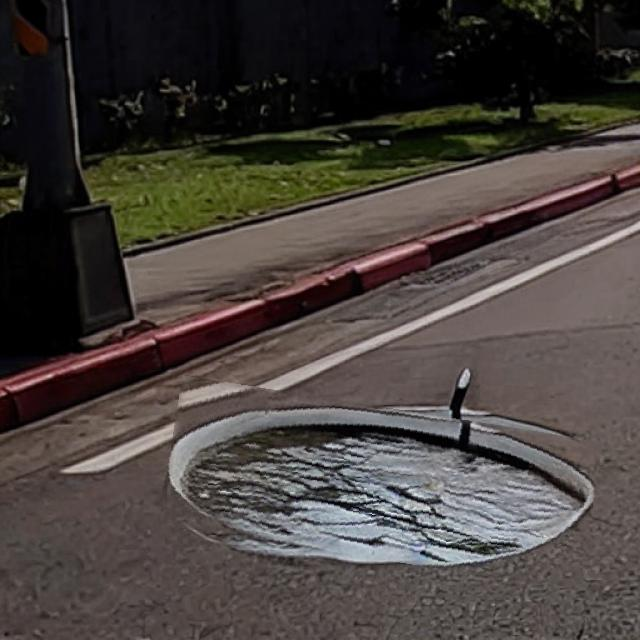puddle: (164, 392, 599, 575)
